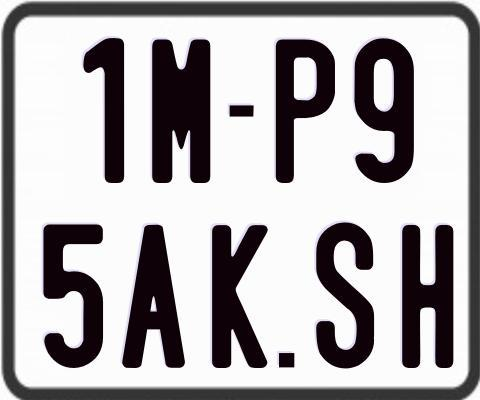1: (83, 37, 127, 183)
5: (40, 224, 100, 368)
9: (352, 35, 417, 186)
A: (121, 222, 190, 365)
H: (402, 223, 456, 369)
K: (209, 223, 270, 371)
M: (151, 39, 211, 189)
P: (275, 38, 338, 186)
S: (315, 221, 378, 367)
